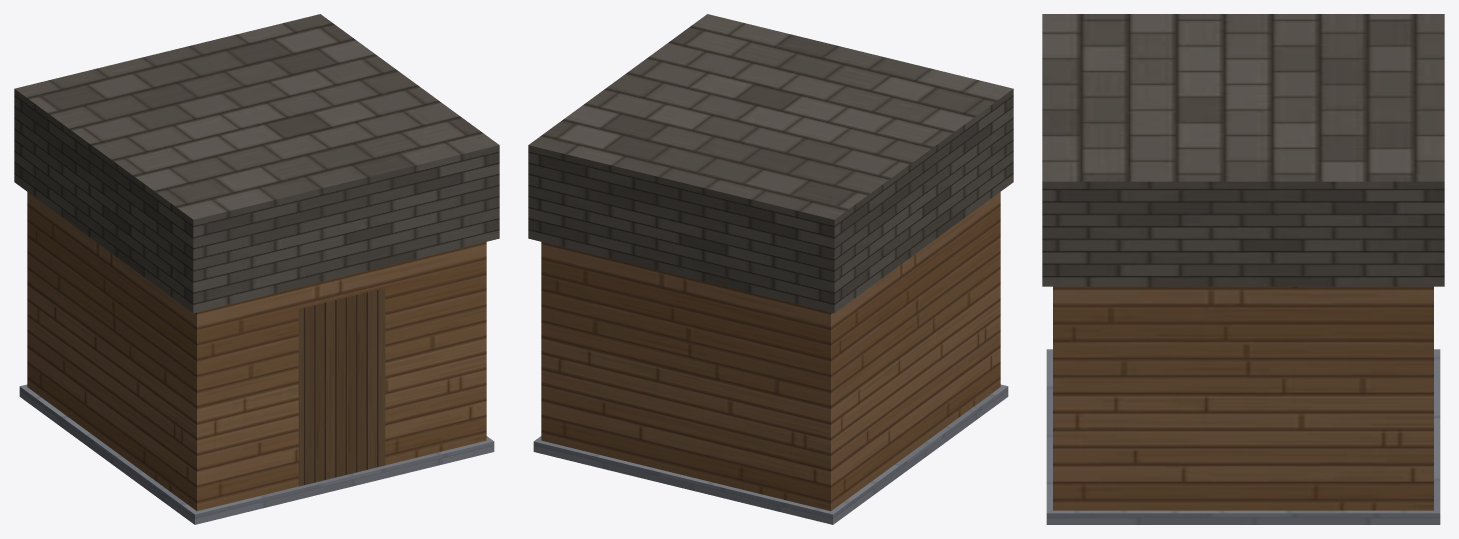
Rendered from house_hut_lod1.glb.
3 views of the same model, side by side, from view 1: azimuth 30°, elevation 25°; view 2: azimuth 150°, elevation 25°; view 3: azimuth 270°, elevation 25° (orthographic). The views are drawn at different scales.
Parts seen in each view (by area): view 1: ae_snow_house_hut_lod1; view 2: ae_snow_house_hut_lod1; view 3: ae_snow_house_hut_lod1.
Part boxes in pixels (x1=…): ae_snow_house_hut_lod1: x1=14, y1=14, x2=499, y2=524; ae_snow_house_hut_lod1: x1=528, y1=14, x2=1013, y2=524; ae_snow_house_hut_lod1: x1=1042, y1=14, x2=1444, y2=524.
Size of the model in its own units: 3.7 by 3.55 by 3.75.
1 material, 1 textured.
